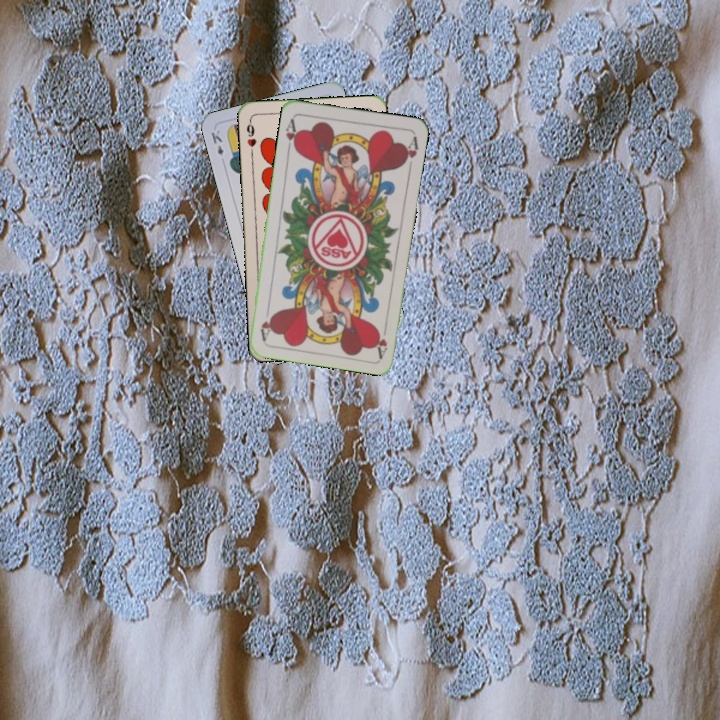EK: (207, 126, 226, 158)
H9: (242, 116, 259, 157)
HA: (282, 115, 302, 155), (372, 319, 390, 359)
